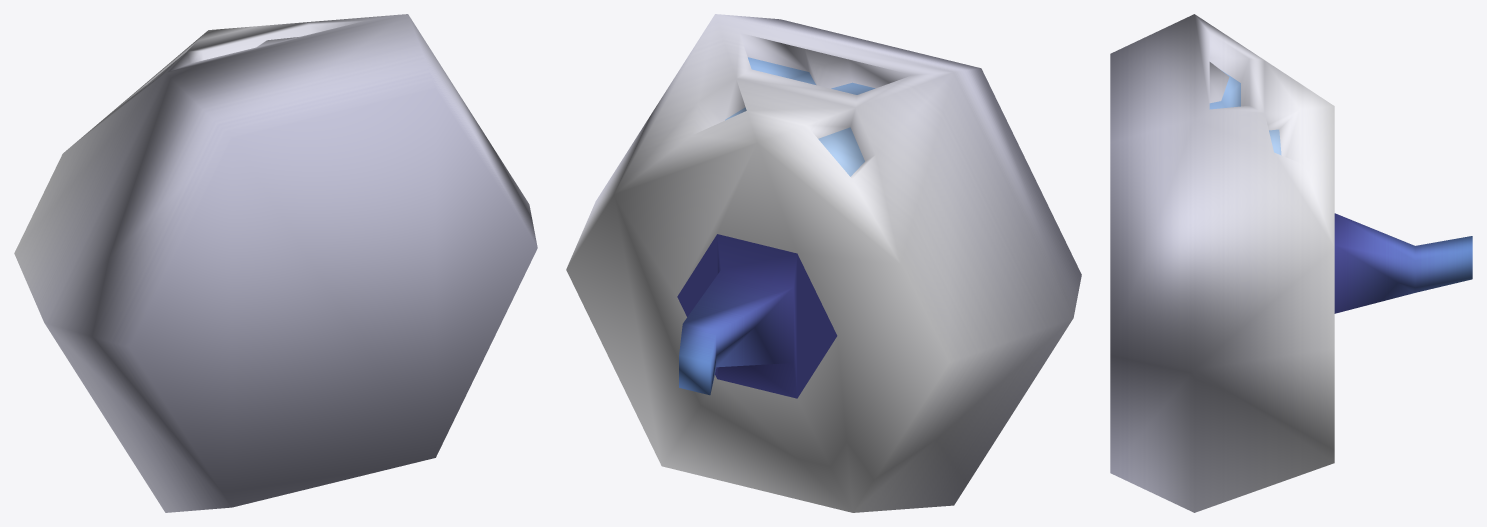
File: pumpkin-carved.obj
3 views of the same model, side by side, from view 1: azimuth 30°, elevation 25°; view 2: azimuth 150°, elevation 25°; view 3: azimuth 270°, elevation 25° (orthographic). The views are drawn at different scales.
Parts seen in each view (by area): view 1: pumpkin-carved.006; view 2: pumpkin-carved.006; view 3: pumpkin-carved.006.
Part boxes in pixels (x1,y1,x2,y2): pumpkin-carved.006: (14,14,537,512); pumpkin-carved.006: (566,14,1081,512); pumpkin-carved.006: (1110,14,1472,512).
Bounding box in the file's own units: 0.357 × 0.3092 × 0.2583.
